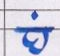anusvara: (31, 11, 38, 19)
